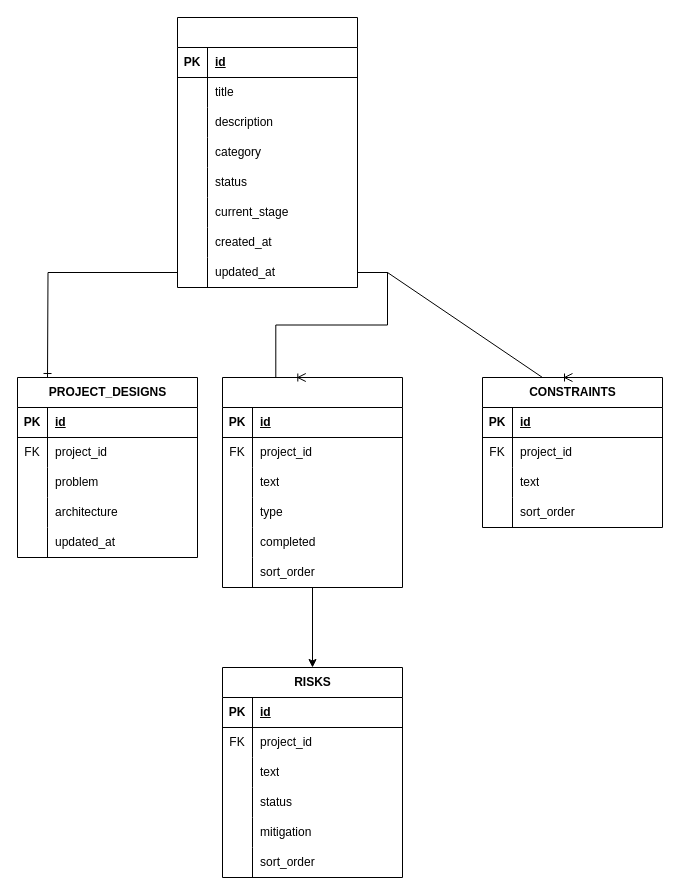
The diagram is 680 pixels wide and 895 high, and some of its shapes have lost their labels. The shapes that lost their labels are listed below. From the top down, each one's box as (x1, y1, x2, y2) in pixels, then its label:
(176, 16, 358, 288): PROJECTS
(222, 376, 402, 588): REQUIREMENTS
